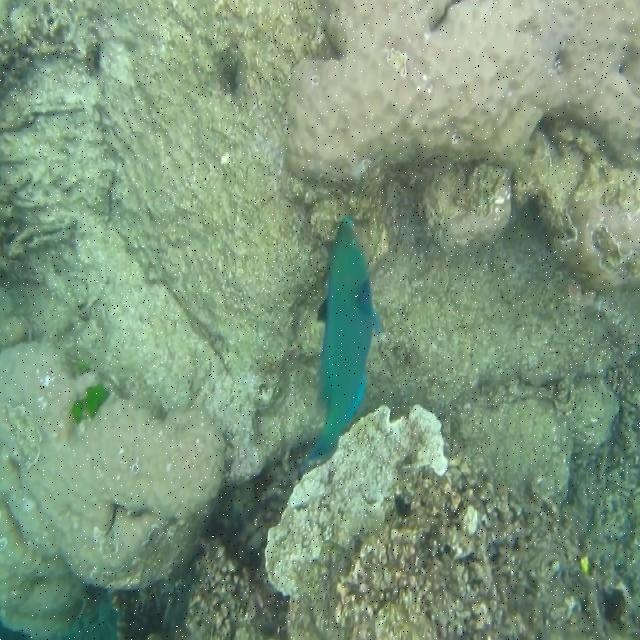fish: (297, 217, 381, 471)
reefs: (284, 2, 639, 289), (0, 338, 227, 639)
